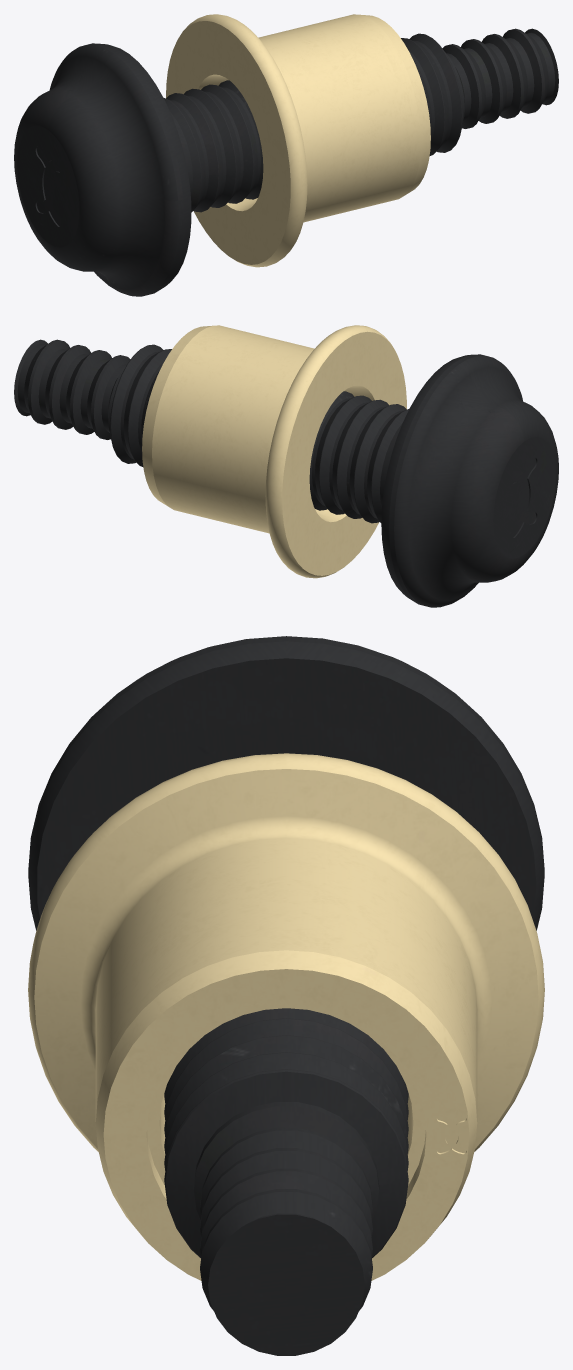
File: large_bobtail.glb
3 renders of one model, top to bottom at view 1: azimuth 30°, elevation 25°; view 2: azimuth 150°, elevation 25°; view 3: azimuth 270°, elevation 25°, orthographic. The views are drawn at different scales.
Visible parts, largest first — view 1: Unnamed; view 2: Unnamed; view 3: Unnamed.
Boxes of the visible parts, x1,y1,x2,y2 form: Unnamed: [14, 14, 558, 296]; Unnamed: [14, 325, 558, 607]; Unnamed: [28, 636, 544, 1355].
Bounding box in the file's own units: 0.0742 × 0.0338 × 0.0338.
Materials: 2 (2 with a texture image).
